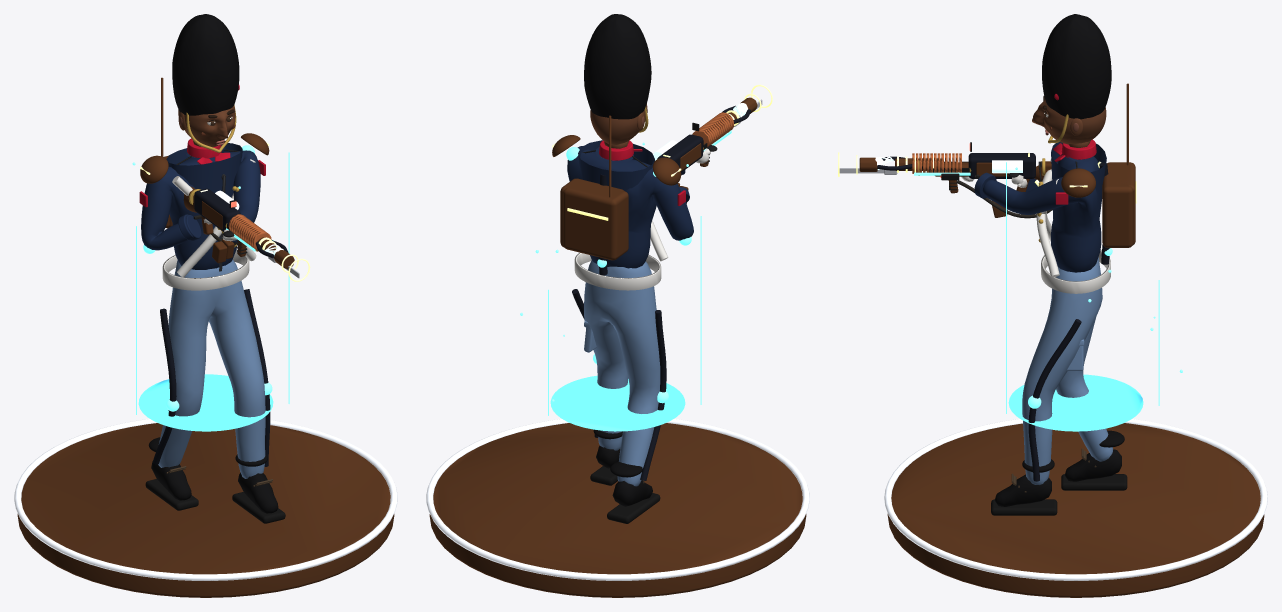
Rendered from lyn_kbh.glb.
3 renders of one model, left to right at view 1: azimuth 30°, elevation 25°; view 2: azimuth 150°, elevation 25°; view 3: azimuth 270°, elevation 25°, orthographic.
Visible parts, largest first — view 1: fod_net, menneske_net, hoved_net, op4.002_net, op1_net, vaaben_net, op4.001_net, op3_net, op3.001_net, op4_net; view 2: fod_net, menneske_net, hoved_net, op4.001_net, op4.002_net, op1_net, vaaben_net, op3_net, ned4_net, op3.001_net; view 3: fod_net, menneske_net, hoved_net, op4.002_net, vaaben_net, ned4_net, op4.001_net, op1_net, op3_net, op3.001_net, op2_net.
Part boxes in pixels (<box>): fod_net: <box>14,419,397,597</box>; menneske_net: <box>139,138,285,523</box>; hoved_net: <box>172,14,239,152</box>; op4.002_net: <box>132,152,289,431</box>; op1_net: <box>162,159,256,290</box>; vaaben_net: <box>183,186,288,258</box>; op4.001_net: <box>143,145,272,466</box>; op3_net: <box>140,77,269,183</box>; op3.001_net: <box>200,189,294,268</box>; op4_net: <box>212,228,310,281</box>; fod_net: <box>426,419,809,597</box>; menneske_net: <box>567,140,717,523</box>; hoved_net: <box>584,14,651,145</box>; op4.001_net: <box>563,147,691,480</box>; op4.002_net: <box>520,142,701,431</box>; op1_net: <box>574,220,668,290</box>; vaaben_net: <box>653,103,751,172</box>; op3_net: <box>552,115,681,197</box>; ned4_net: <box>560,178,623,247</box>; op3.001_net: <box>663,97,757,170</box>; fod_net: <box>884,419,1267,597</box>; menneske_net: <box>961,139,1127,515</box>; hoved_net: <box>1032,14,1111,144</box>; op4.002_net: <box>1006,162,1182,431</box>; vaaben_net: <box>875,153,1051,191</box>; ned4_net: <box>1102,164,1133,247</box>; op4.001_net: <box>1028,162,1136,481</box>; op1_net: <box>976,159,1110,293</box>; op3_net: <box>1061,83,1128,197</box>; op3.001_net: <box>859,153,1029,176</box>; op2_net: <box>839,142,1045,193</box>.
Bounding box in the file's own units: 1.94 × 2.81 × 2.17.
